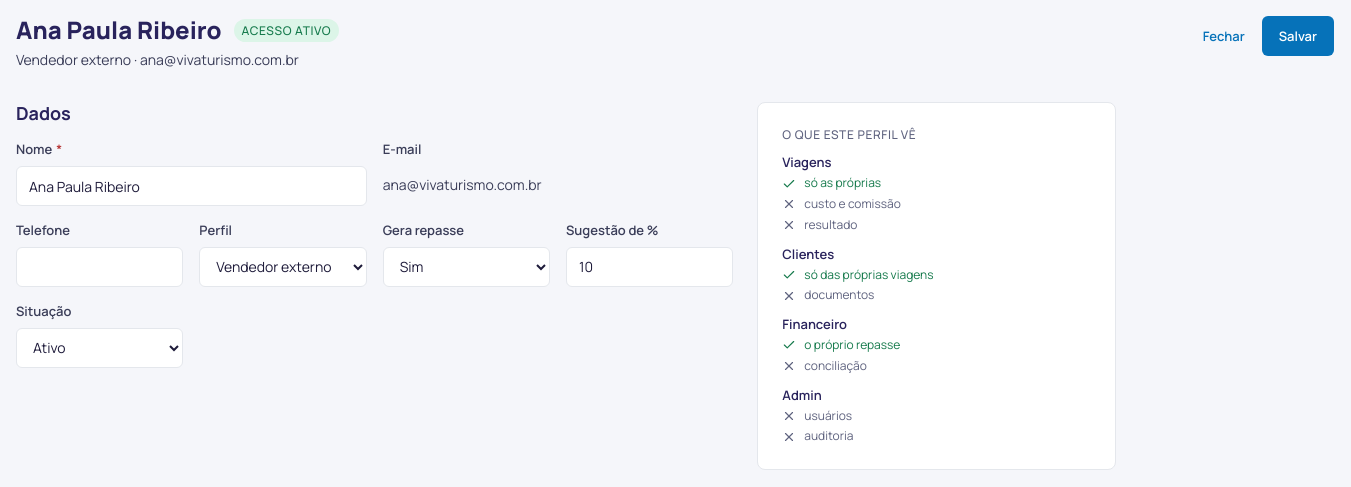
Scenario: carrega, edita o nome, salva com Ctrl+S e mostra Salvo às
The width and height of the screenshot is (1351, 487).
Replace the text in the field showing "Ana Paula Ribeiro" with "Ana P. Ribeiro" at (191, 186), box [16, 166, 367, 206]
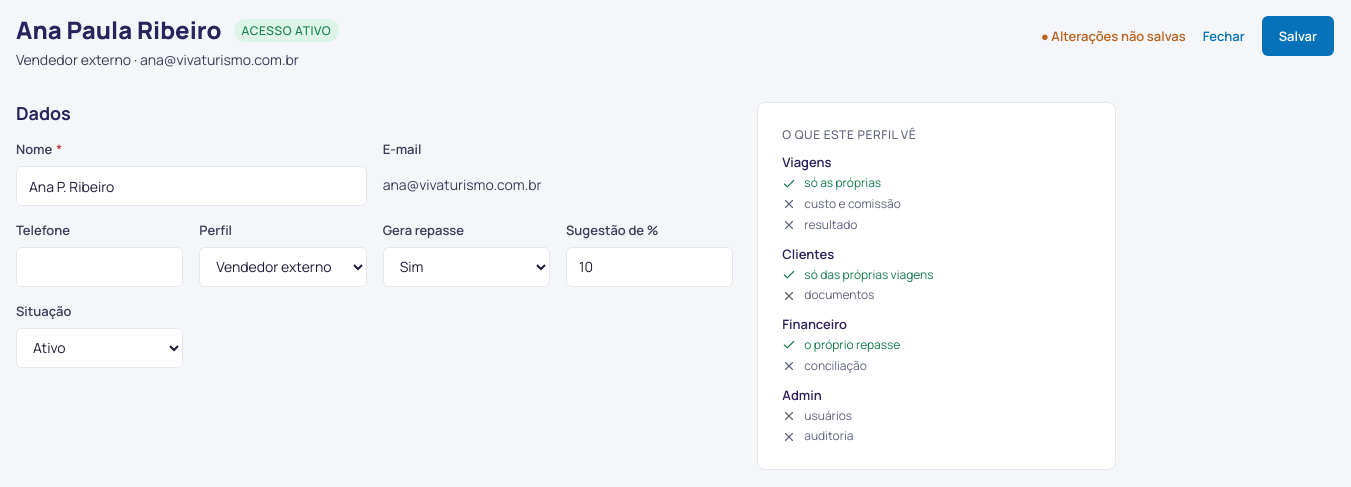
Press s
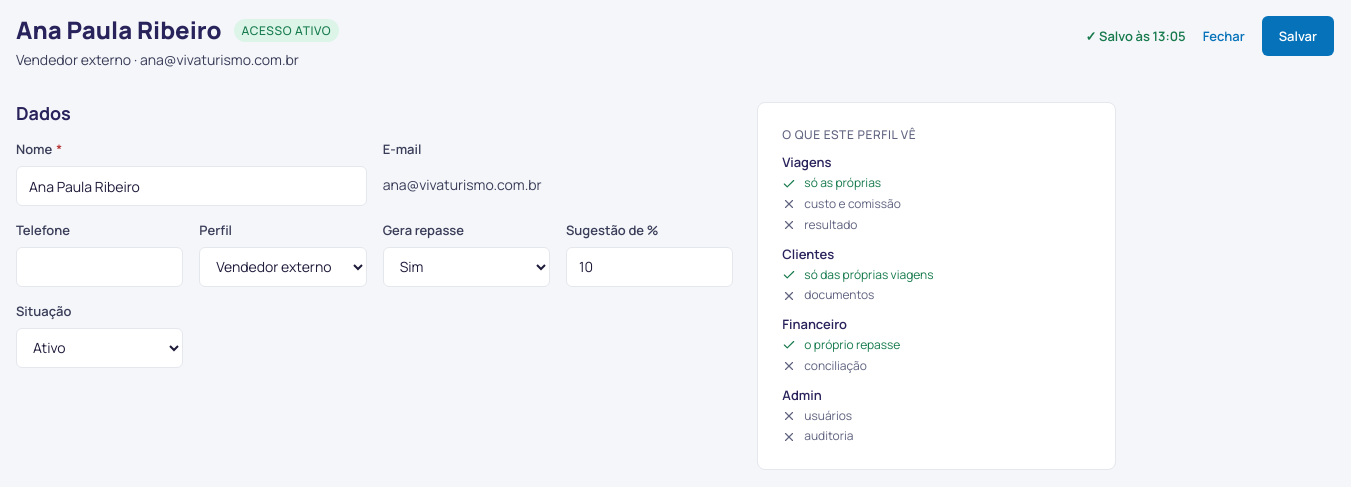
Expected: the text "✓ Salvo às 13:05" is shown, [1086, 28, 1186, 44]
